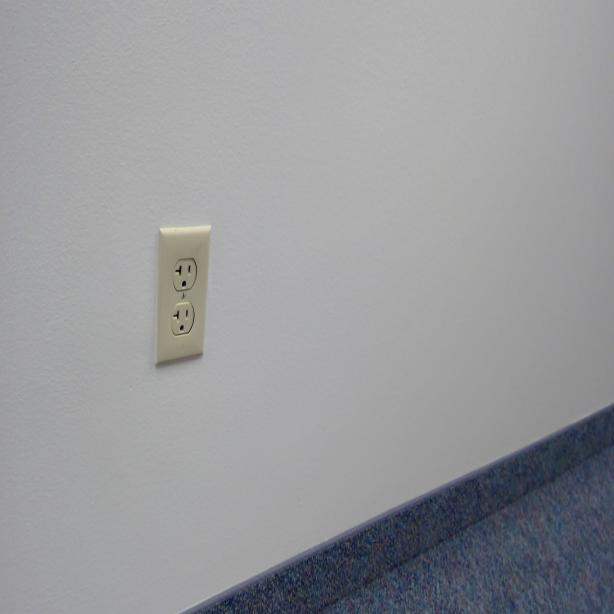typeb: (171, 304, 192, 335), (174, 261, 194, 290)
